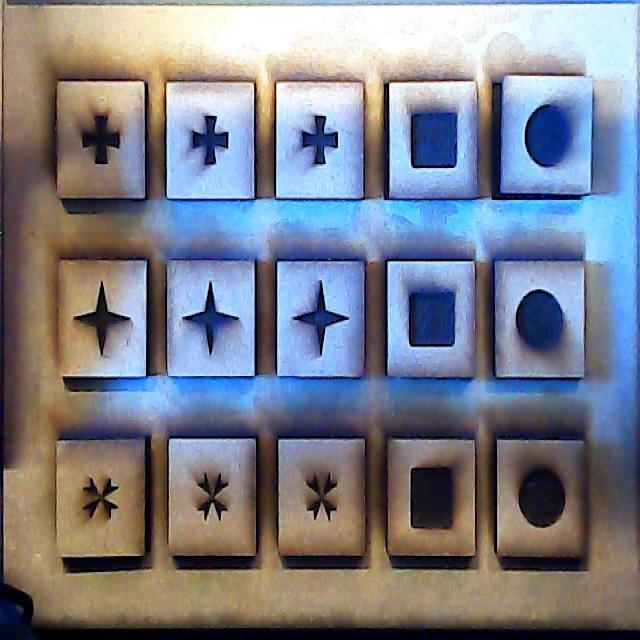circle: (496, 74, 593, 197), (497, 435, 589, 560), (495, 260, 588, 383)
maltese: (56, 440, 149, 564), (168, 437, 260, 560), (277, 440, 364, 557)
square: (388, 438, 479, 560), (391, 80, 479, 201), (388, 262, 476, 378)
star: (60, 255, 150, 380), (167, 259, 257, 382), (278, 260, 368, 378)
temple: (54, 78, 148, 200), (274, 80, 364, 200), (166, 84, 254, 204)
